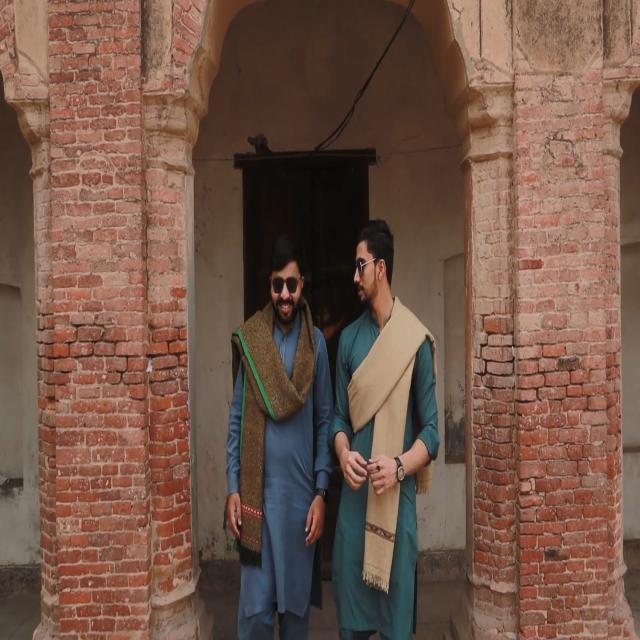dress: (329, 290, 443, 640), (222, 297, 337, 640)
glasses: (268, 270, 304, 300), (354, 255, 377, 281)
